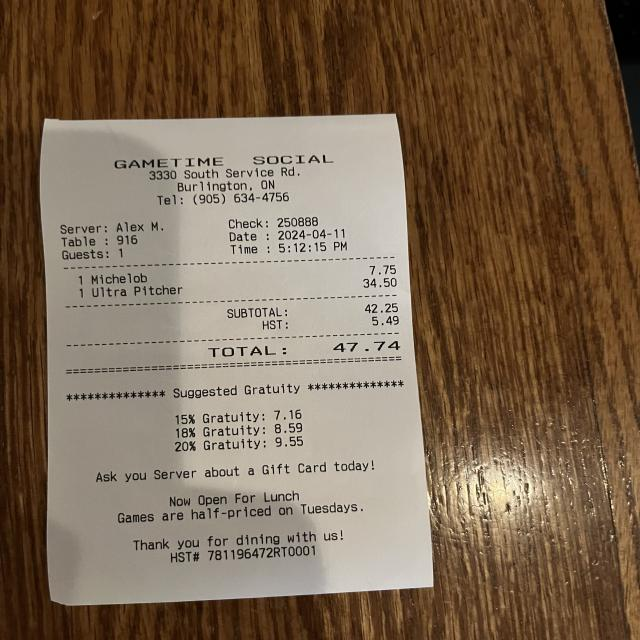item: (87, 260, 404, 288), (88, 277, 404, 300)
store_name: (105, 152, 343, 172)
total_amount: (203, 336, 409, 362)
transaction_date: (269, 227, 354, 244)
